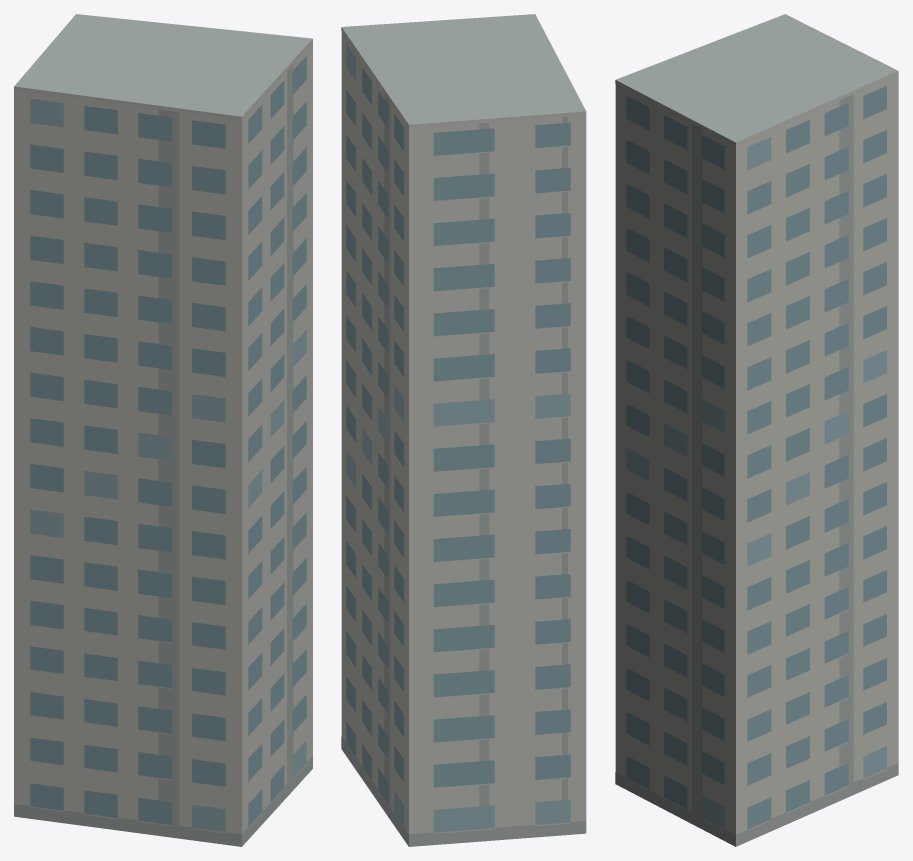
Rendered from residential-10fb6aef-fe91-43a6-be9d-98c2742cb951.glb.
3 renders of one model, left to right at view 1: azimuth 30°, elevation 25°; view 2: azimuth 150°, elevation 25°; view 3: azimuth 270°, elevation 25°, orthographic. The views are drawn at different scales.
Parts seen in each view (by area): view 1: residential-10fb6aef-fe91-43a6-be9d-98c2742cb951.tmp; view 2: residential-10fb6aef-fe91-43a6-be9d-98c2742cb951.tmp; view 3: residential-10fb6aef-fe91-43a6-be9d-98c2742cb951.tmp.
Part boxes in pixels (x1=…): residential-10fb6aef-fe91-43a6-be9d-98c2742cb951.tmp: x1=14, y1=14, x2=312, y2=846; residential-10fb6aef-fe91-43a6-be9d-98c2742cb951.tmp: x1=341, y1=14, x2=586, y2=846; residential-10fb6aef-fe91-43a6-be9d-98c2742cb951.tmp: x1=615, y1=14, x2=898, y2=846.
Bounding box in the file's own units: 17.62 × 45 × 16.4.
